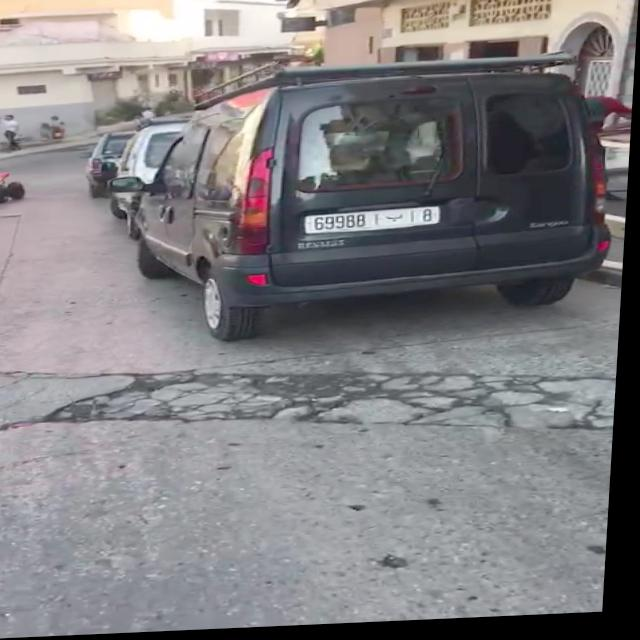License-Plate: (307, 211, 442, 236)
